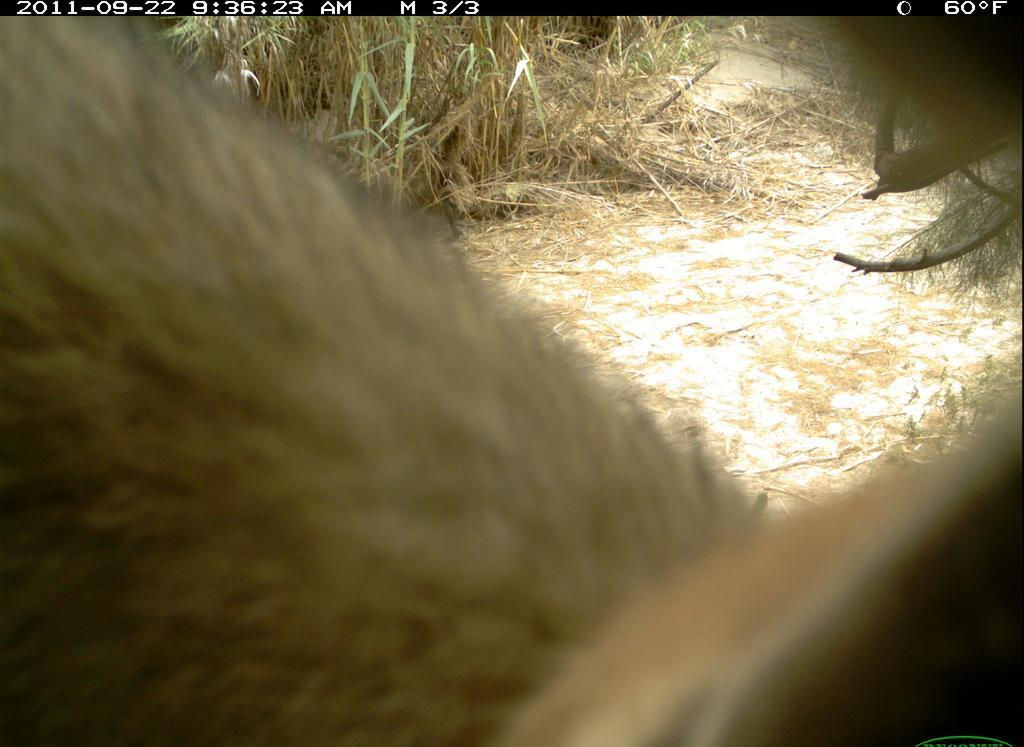coyote: (2, 16, 1023, 747)
